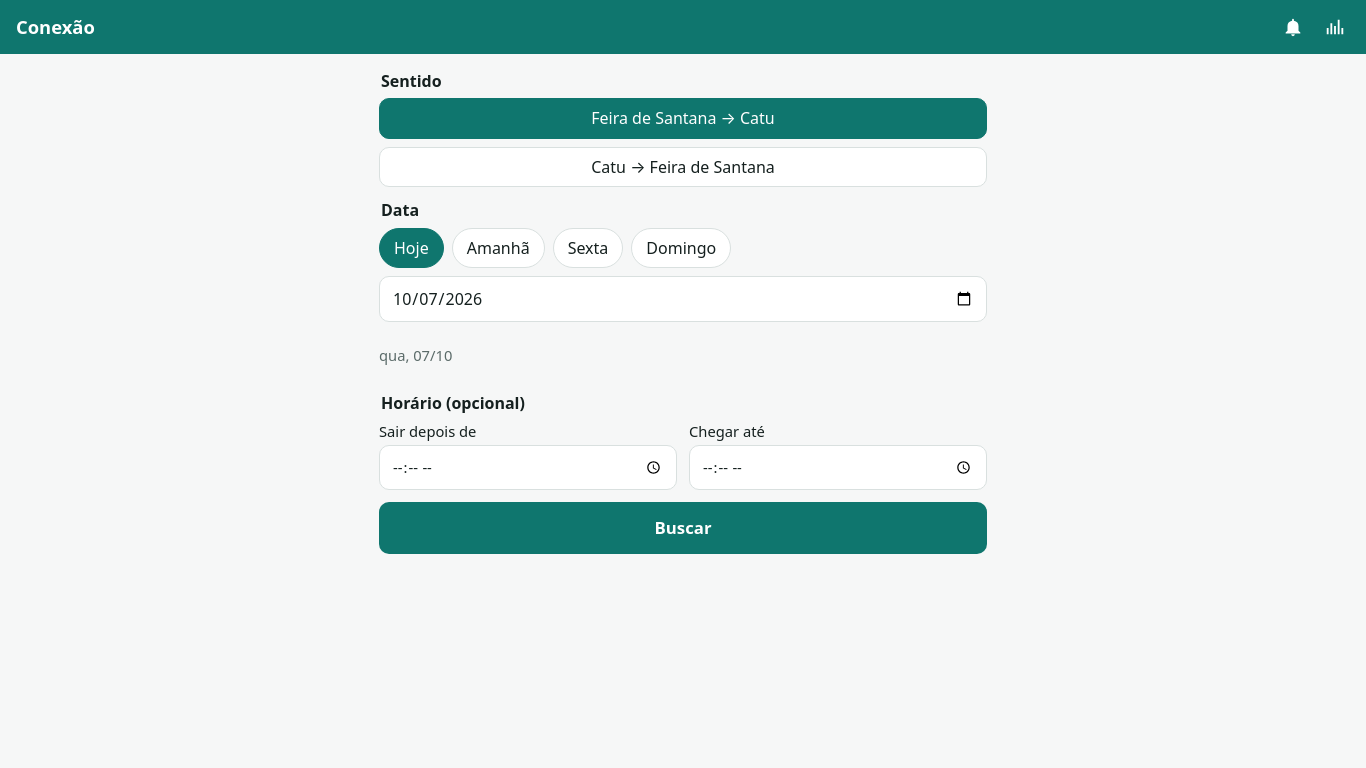
Test: Buscar › sentidos vêm do banco; atalhos de data; buscar leva aos resultados
This screenshot has width=1366, height=768.
Later steps or results of the test are not shown.
What coordinates should you click on to do the following:
click the button "Catu → Feira de Santana"
I would click on:
 (683, 167)
Its box is 379,147 -> 987,187.
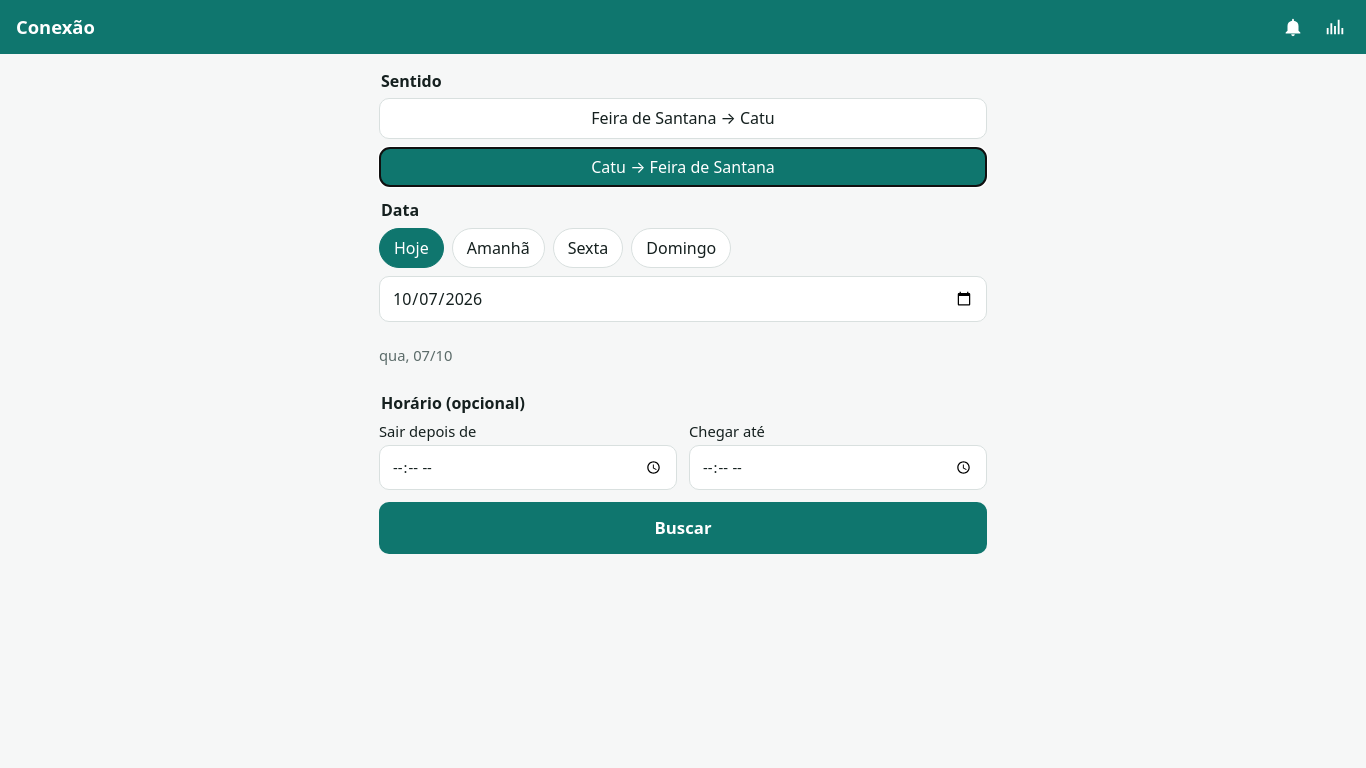
What coordinates should you click on to do the following:
click the button "Sexta"
I would click on:
 (588, 248)
Its box is 553,228 -> 623,268.
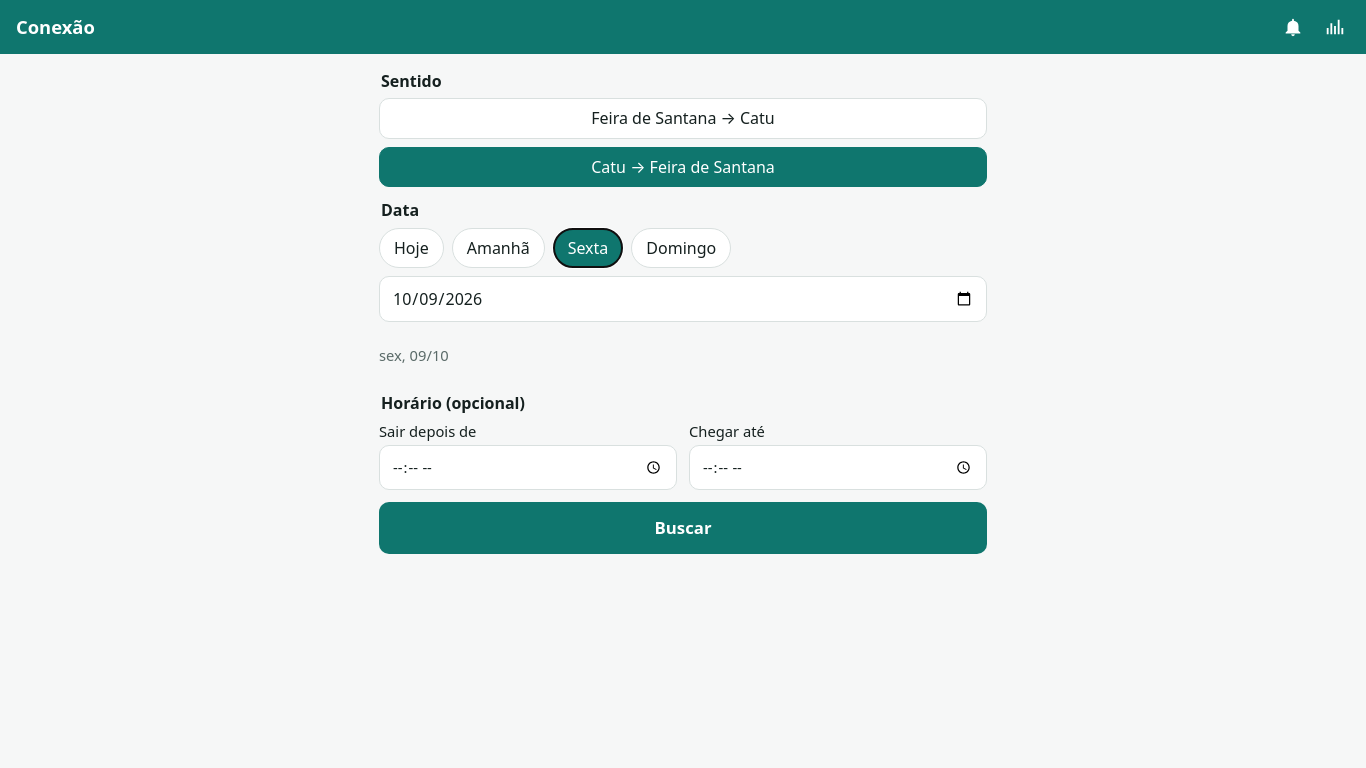
Expected: the text "sex, 09/10" is shown, 379,345 -> 449,365
